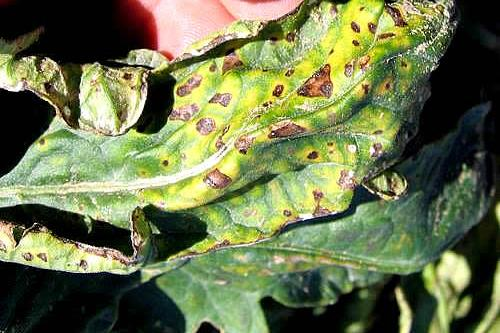Tomato Septoria leaf spot: (4, 3, 470, 293)
